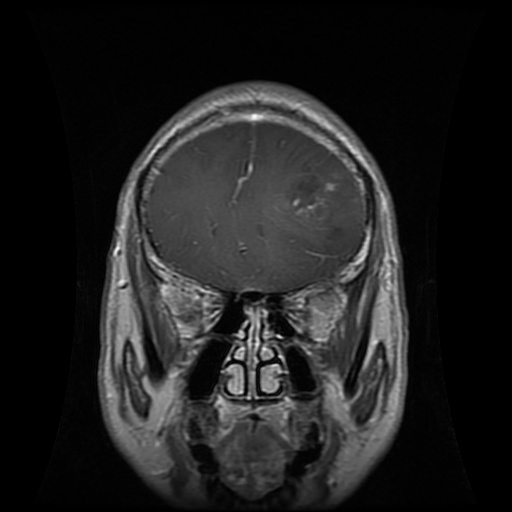glioma: (285, 166, 344, 224)
